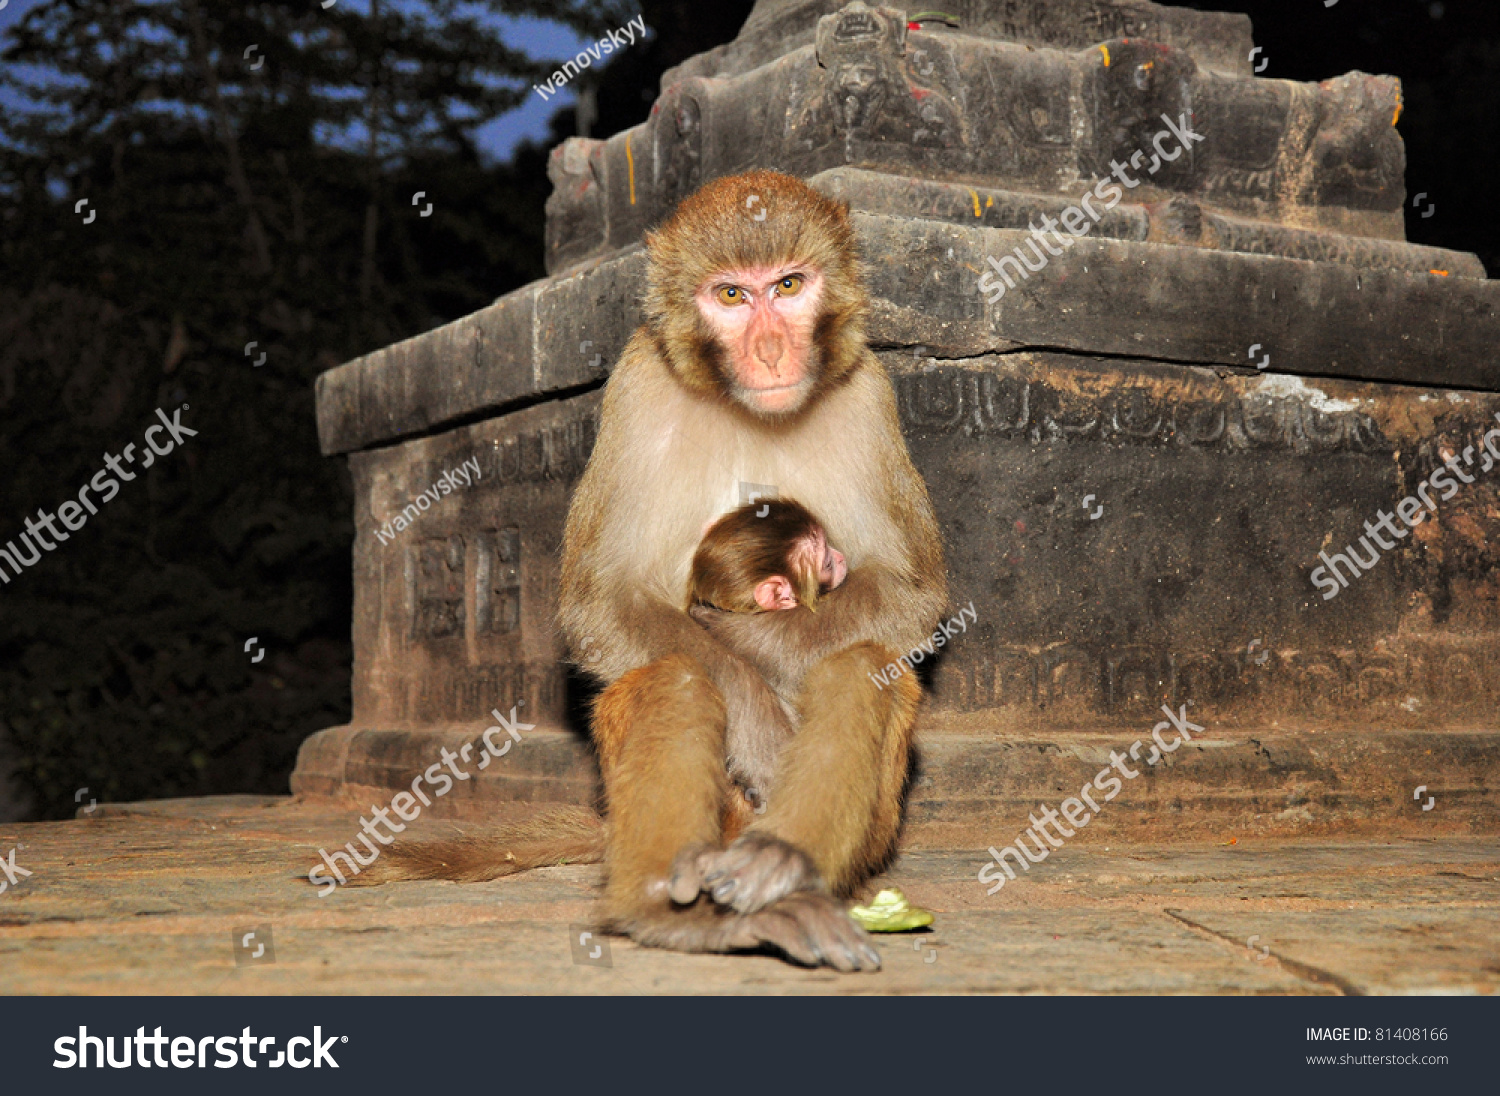monkey: (547, 174, 965, 975), (659, 471, 859, 827)
